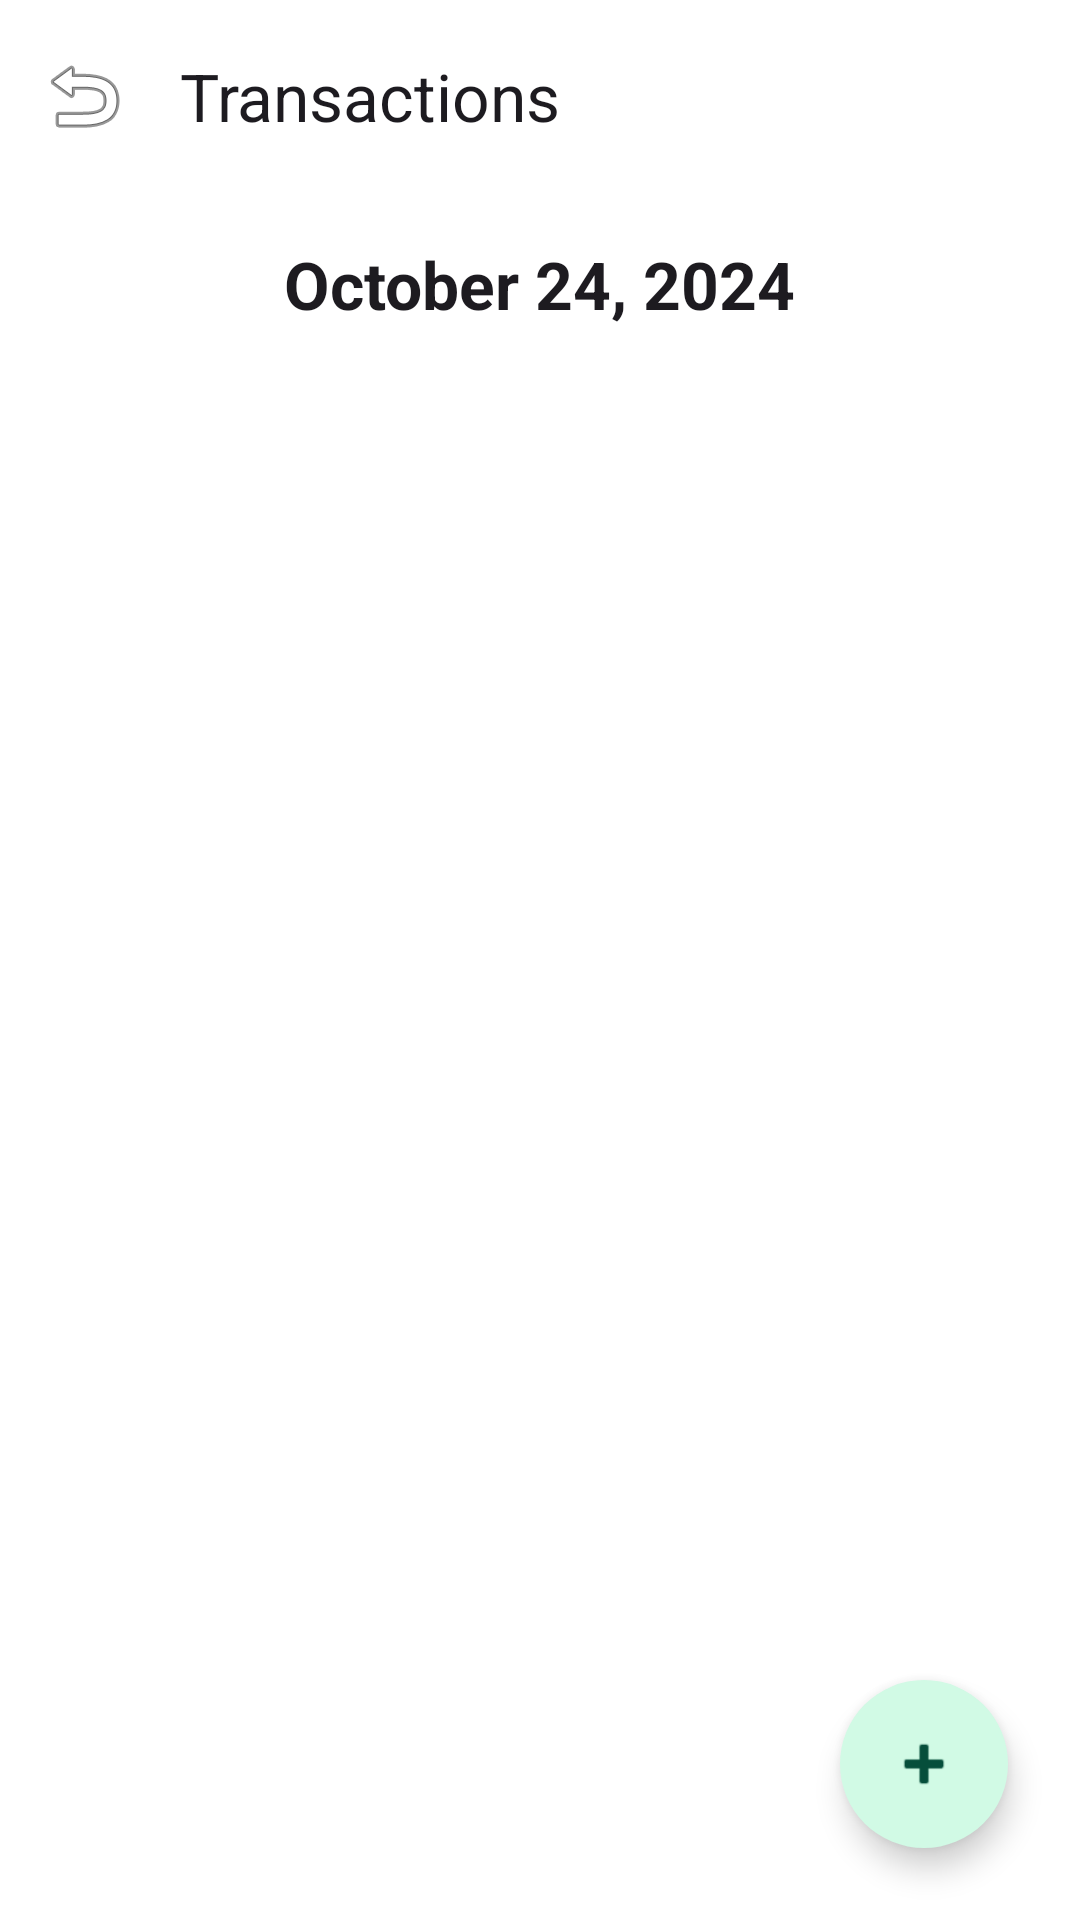

Icons on this 1080x1920 Android screen, each with the point to tap as (x=x, y=y):
Add Transaction: (x=924, y=1764)
